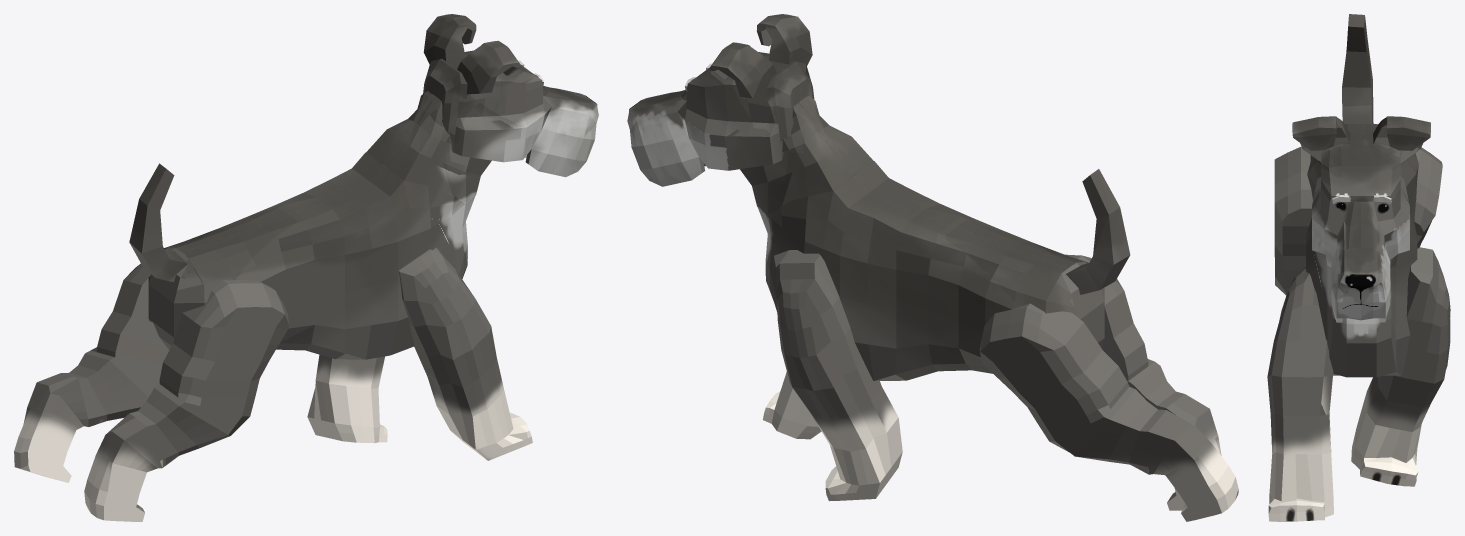
File: dog.fbx
3 views of the same model, side by side, from view 1: azimuth 30°, elevation 25°; view 2: azimuth 150°, elevation 25°; view 3: azimuth 270°, elevation 25° (orthographic). The views are drawn at different scales.
Visible parts, largest first — view 1: Cube.007, Cube.004; view 2: Cube.007, Cube.004; view 3: Cube.004, Cube.007.
Boxes of the visible parts, x1,y1,x2,y2 form: Cube.007: (129, 14, 598, 359); Cube.004: (14, 247, 532, 521); Cube.007: (627, 14, 1130, 380); Cube.004: (763, 250, 1238, 521); Cube.004: (1267, 146, 1450, 521); Cube.007: (1292, 14, 1430, 377).
Bounding box in the file's own units: 1161 × 779 × 311.
